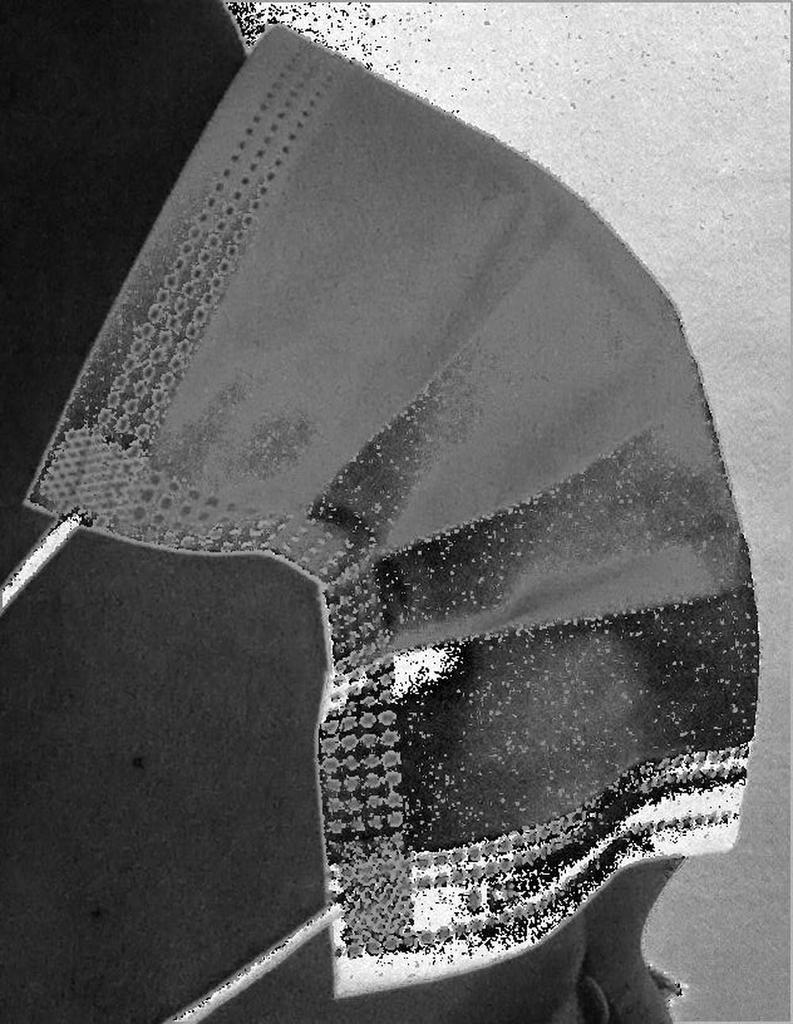Low GSM: (10, 19, 764, 1007)
